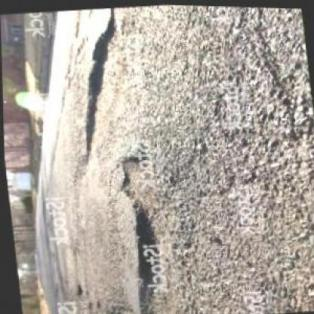Hueco: (64, 7, 146, 162), (112, 146, 179, 313)
